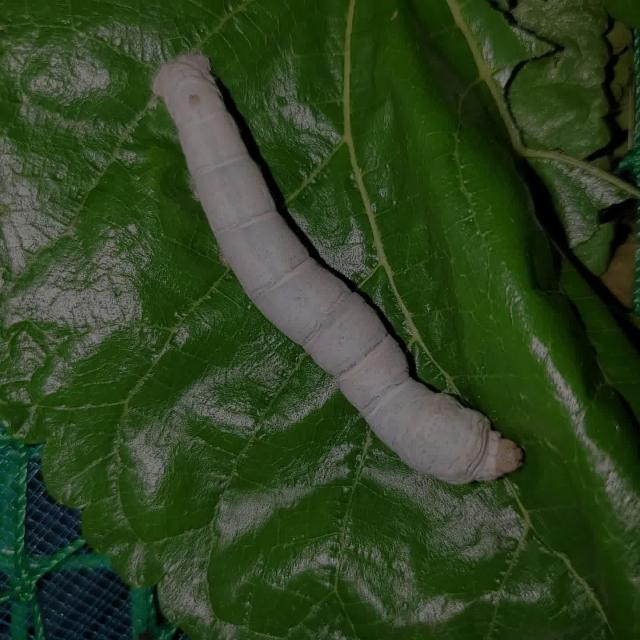Healthy: (150, 46, 529, 493)
